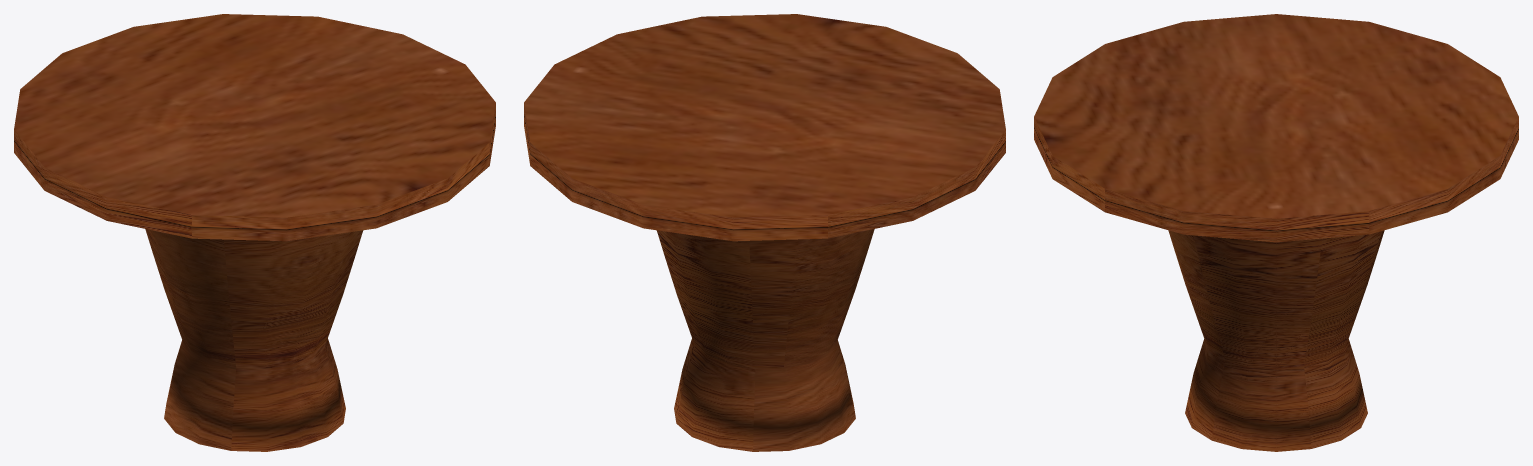
File: Bar01_Mesa.fbx
The picture shows the model from 3 angles, left to right: view 1: azimuth 30°, elevation 25°; view 2: azimuth 150°, elevation 25°; view 3: azimuth 270°, elevation 25°; orthographic projection.
Visible parts, largest first — view 1: Mesita; view 2: Mesita; view 3: Mesita.
Part boxes in pixels (left/top/right/bottom): Mesita: left=14, top=14, right=495, bottom=451; Mesita: left=524, top=14, right=1005, bottom=451; Mesita: left=1034, top=14, right=1518, bottom=451.
Size of the model in its own units: 120 by 81.27 by 120.
